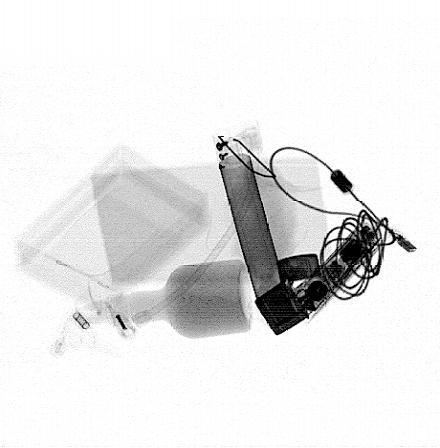Lighter: (253, 252, 322, 336)
